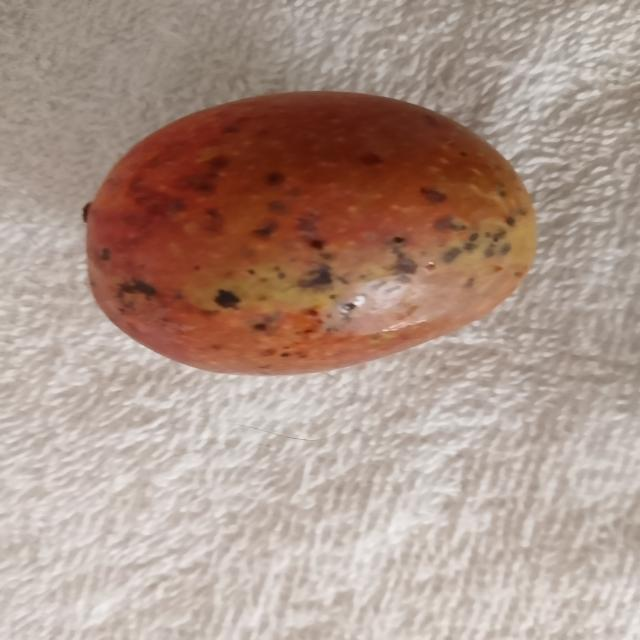mango: (87, 92, 535, 374)
